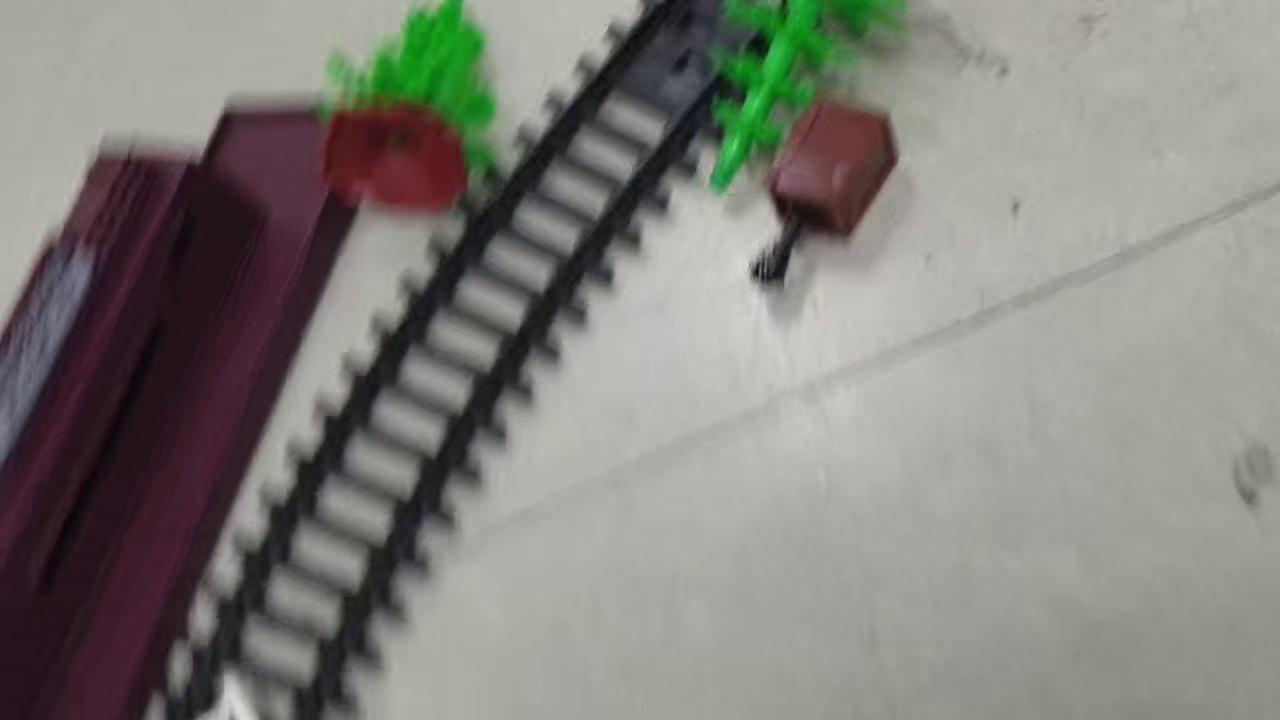box: (750, 97, 899, 288)
tree: (703, 1, 910, 197), (321, 1, 501, 211)
